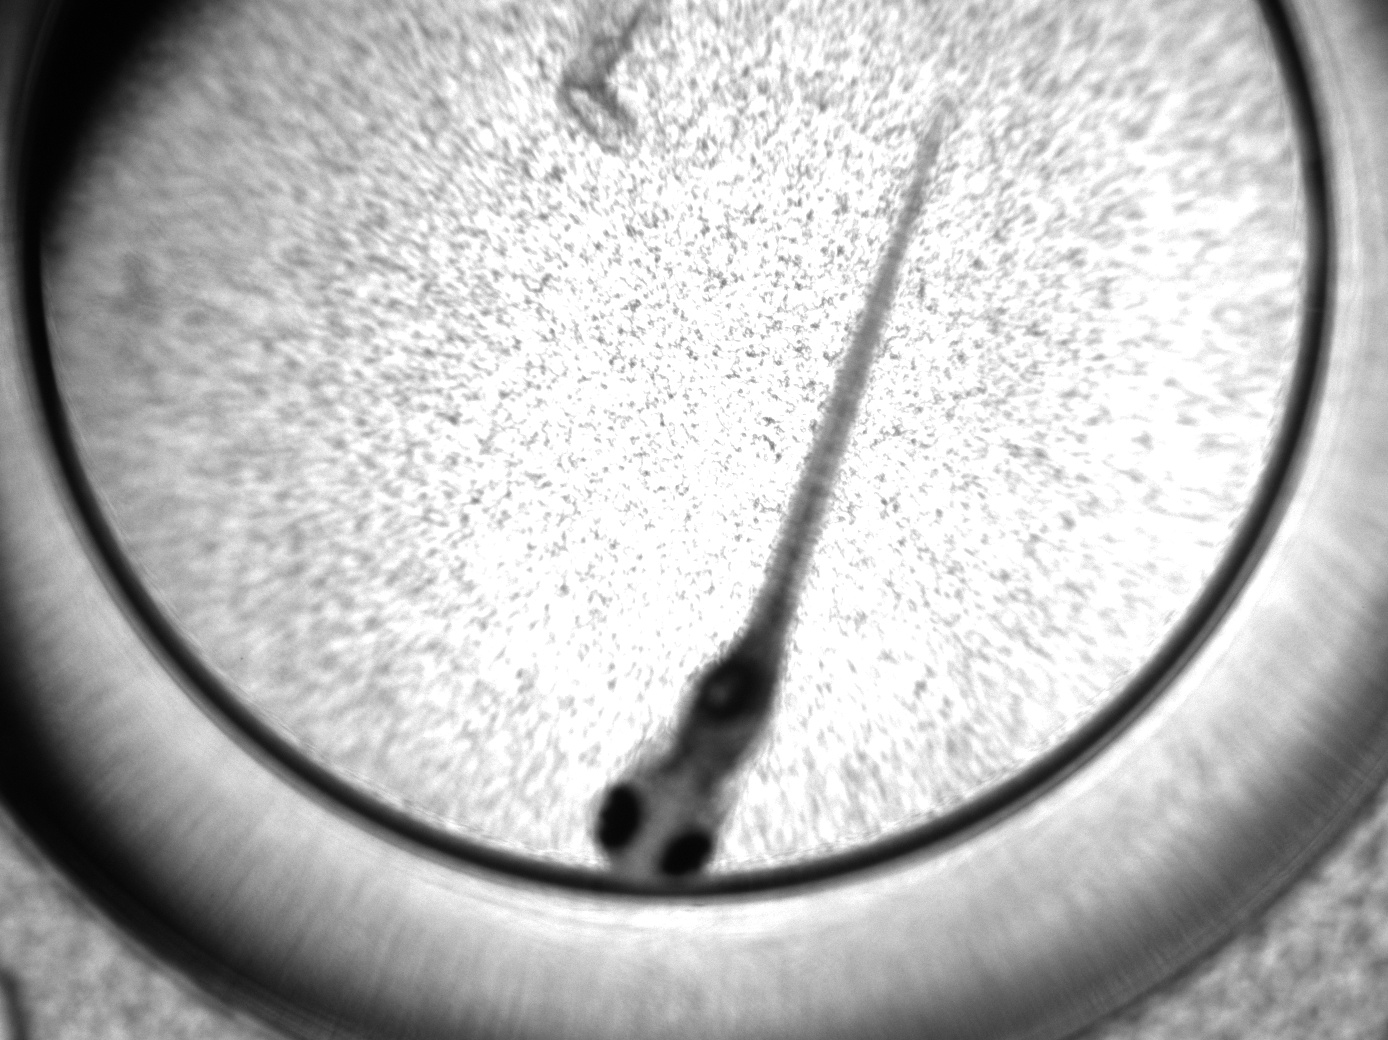embryo: (589, 102, 958, 885)
eye: (592, 785, 643, 852), (660, 828, 712, 876)
yolksac: (672, 645, 793, 781)
